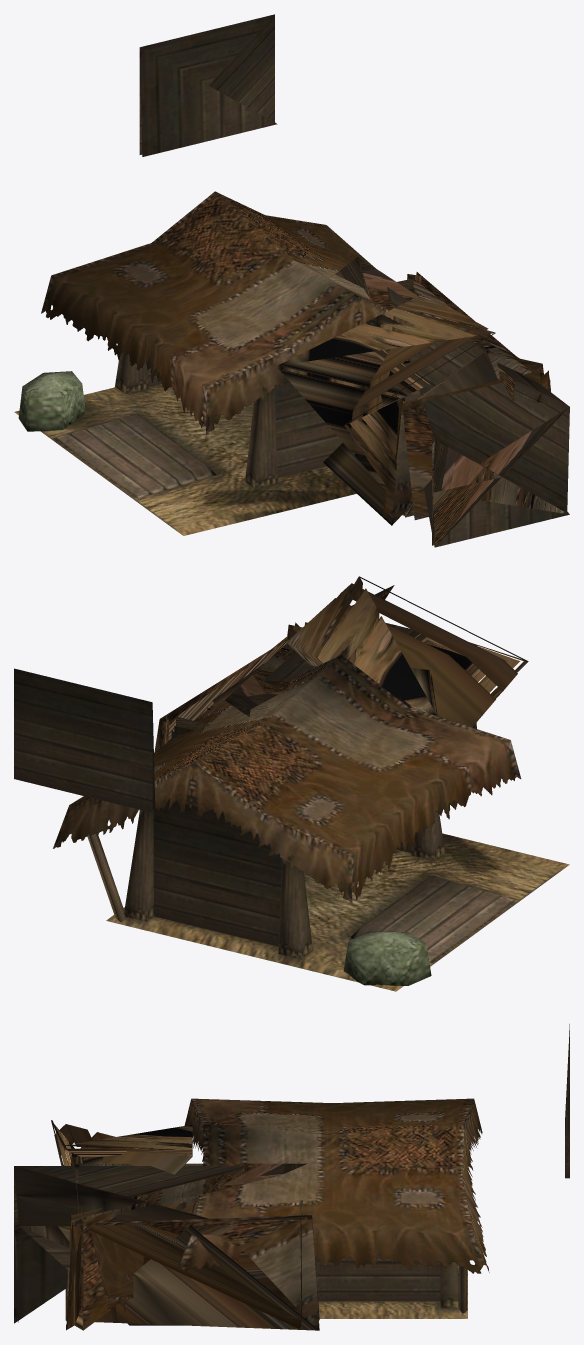
File: stbuho5.dae
The picture shows the model from 3 angles, top to bottom: view 1: azimuth 30°, elevation 25°; view 2: azimuth 150°, elevation 25°; view 3: azimuth 270°, elevation 25°; orthographic projection. The views are drawn at different scales.
Parts seen in each view (by area): view 1: mainobject, enter, brevno02, brevno01; view 2: mainobject, enter, brevno01, brevno02; view 3: mainobject, enter, brevno02, brevno01.
Boxes of the visible parts, <box> form: mainobject: <box>14,191,389,535</box>; enter: <box>278,257,550,525</box>; brevno02: <box>387,287,569,547</box>; brevno01: <box>139,14,277,156</box>; mainobject: <box>53,655,569,991</box>; enter: <box>154,576,528,751</box>; brevno01: <box>14,668,155,812</box>; brevno02: <box>207,585,477,728</box>; mainobject: <box>176,1098,489,1318</box>; enter: <box>51,1120,319,1330</box>; brevno02: <box>14,1166,246,1325</box>; brevno01: <box>565,1024,569,1178</box>.
Size of the model in its own units: 8.16 by 12.7 by 6.41.
1 material, 1 textured.
